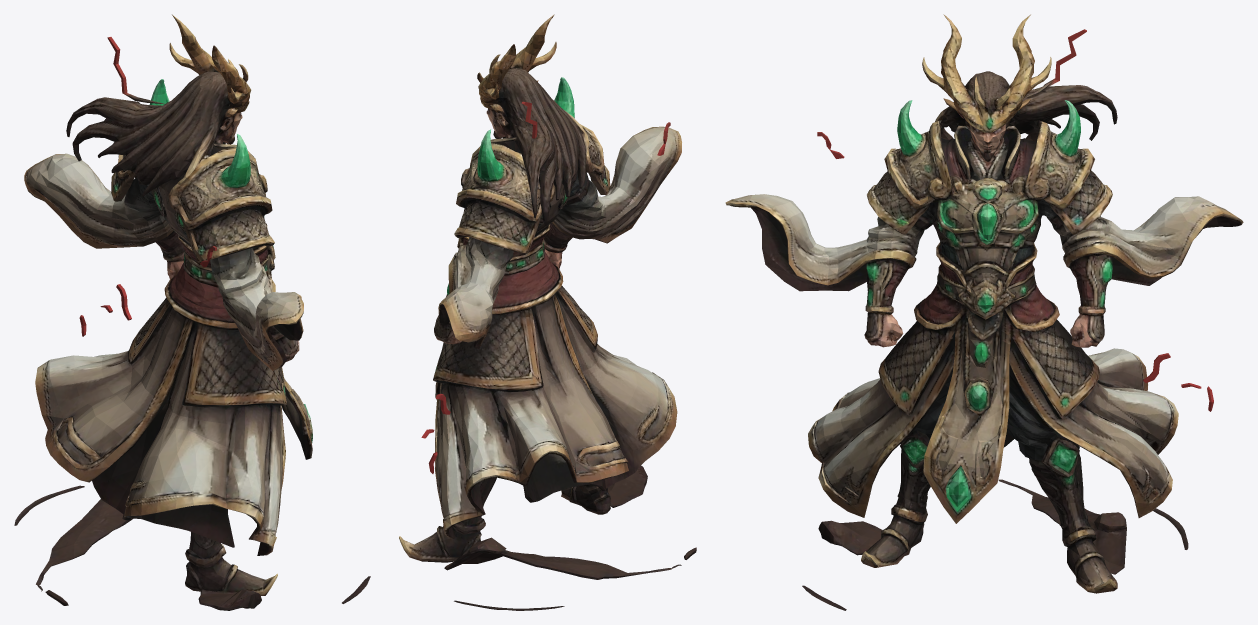
Rendered from fantasy_armored_warrior.glb.
The picture shows the model from 3 angles, left to right: view 1: azimuth 30°, elevation 25°; view 2: azimuth 150°, elevation 25°; view 3: azimuth 270°, elevation 25°; orthographic projection. The views are drawn at different scales.
Parts seen in each view (by area): view 1: tripo_node_6a614d37-a80c-4933-bd40-42b85ac03865; view 2: tripo_node_6a614d37-a80c-4933-bd40-42b85ac03865; view 3: tripo_node_6a614d37-a80c-4933-bd40-42b85ac03865.
Part boxes in pixels (bbox=[...]): tripo_node_6a614d37-a80c-4933-bd40-42b85ac03865: bbox=[14, 14, 370, 610]; tripo_node_6a614d37-a80c-4933-bd40-42b85ac03865: bbox=[399, 14, 696, 610]; tripo_node_6a614d37-a80c-4933-bd40-42b85ac03865: bbox=[725, 14, 1243, 610].
Size of the model in its own units: 0.5195 by 0.996 by 0.8593.
Materials: 1 (1 with a texture image).
